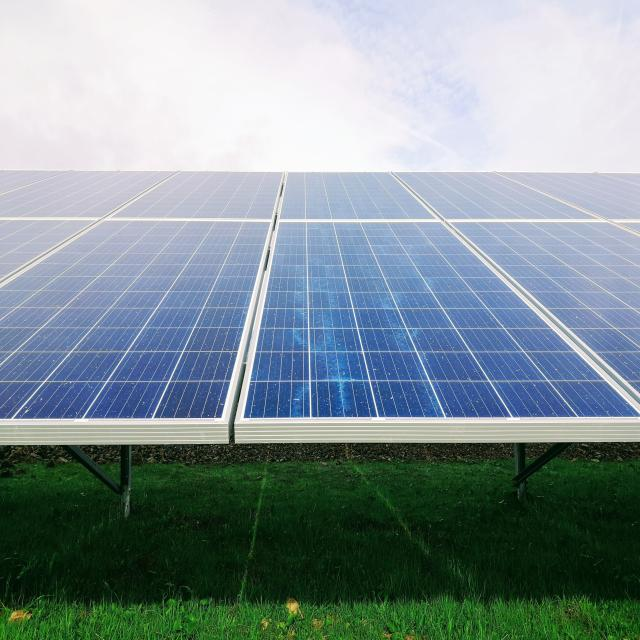clean-solar-panel: (0, 172, 640, 447)
